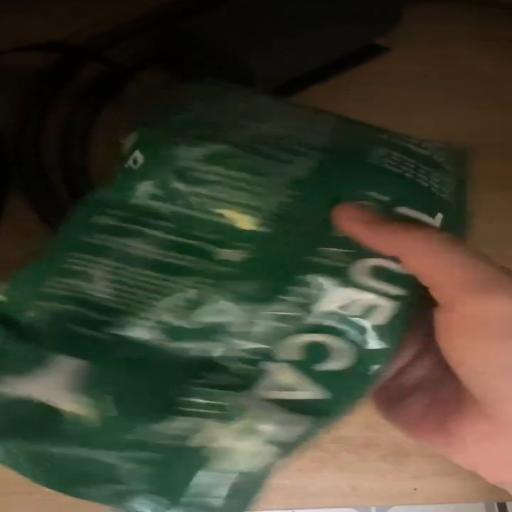cafe_xay: (0, 82, 465, 512)
